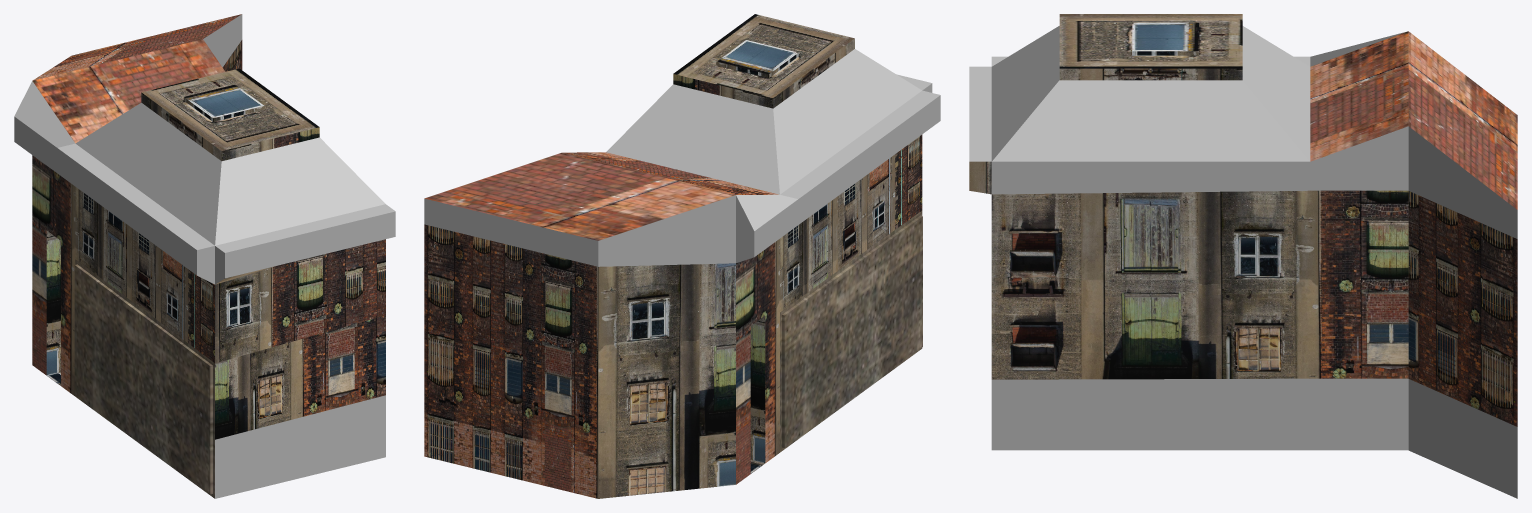
File: BuildingCity_02.fbx
3 views of the same model, side by side, from view 1: azimuth 30°, elevation 25°; view 2: azimuth 150°, elevation 25°; view 3: azimuth 270°, elevation 25° (orthographic). The views are drawn at different scales.
Visible parts, largest first — view 1: Cube.001; view 2: Cube.001; view 3: Cube.001.
Boxes of the visible parts, <box> form: Cube.001: <box>14,14,395,498</box>; Cube.001: <box>424,14,940,498</box>; Cube.001: <box>969,14,1517,498</box>.
Size of the model in its own units: 1878 by 2087 by 2836.
